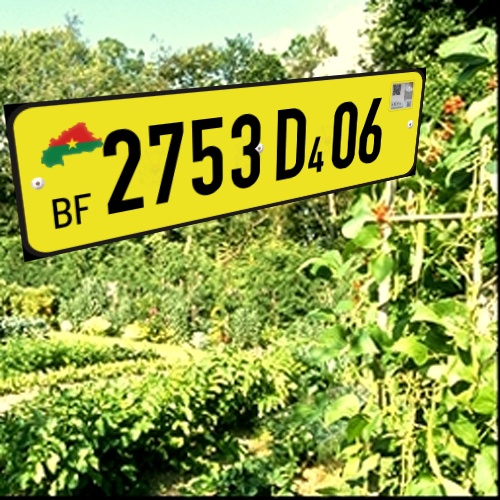plate: (3, 62, 440, 270)
